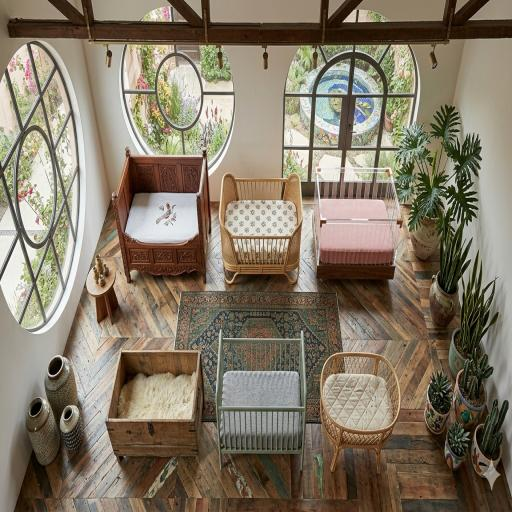crib: (113, 148, 211, 283), (216, 330, 306, 469), (106, 350, 203, 461), (313, 168, 402, 278), (320, 353, 401, 473), (219, 174, 302, 283)
